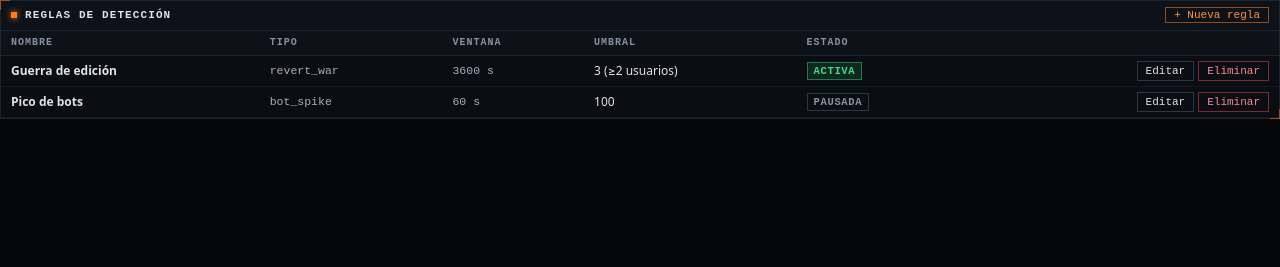
Test: RulesPanel › creates a rule with POST
Expected: the text "Guerra de edición" is shown, left=1, top=56, right=260, bottom=86
Click the button "+ Nueva regla" at (1217, 15), box left=1165, top=7, right=1269, bottom=23
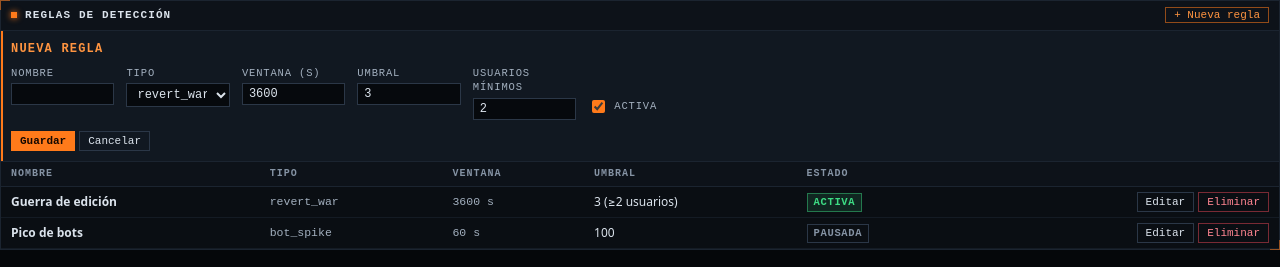
Type "Nueva" into the field labelled "Nombre" at (63, 94), box left=11, top=84, right=114, bottom=106
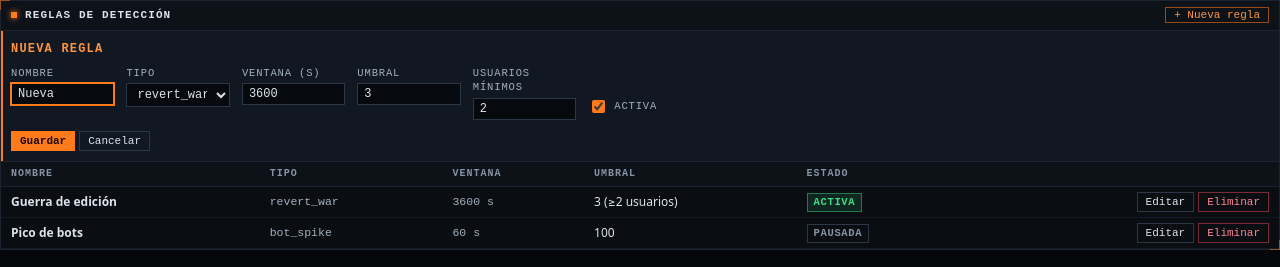
Click the button "Guardar" at (43, 141), box left=11, top=131, right=75, bottom=151
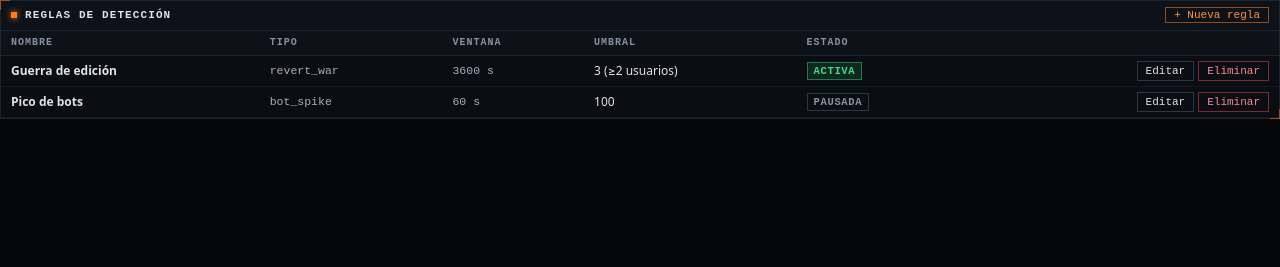
Expected: the form is gone
